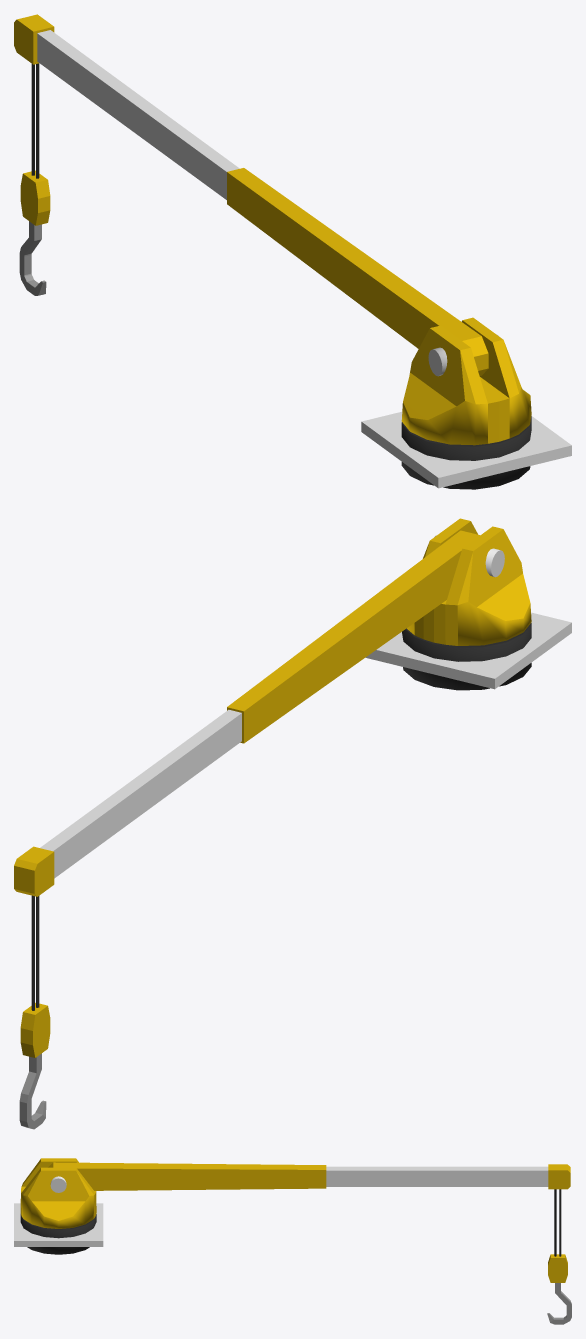
File: crane_tower.fbx
The picture shows the model from 3 angles, top to bottom: view 1: azimuth 30°, elevation 25°; view 2: azimuth 150°, elevation 25°; view 3: azimuth 270°, elevation 25°; orthographic projection. The views are drawn at different scales.
Visible parts, largest first — view 1: Arm, Tower, Beam, Base, Block; view 2: Arm, Beam, Tower, Base, Block; view 3: Arm, Beam, Tower, Base, Block.
Part boxes in pixels (x1,y1,x2,y2): Arm: [227, 168, 488, 375]; Tower: [401, 317, 531, 445]; Beam: [14, 14, 239, 199]; Base: [361, 411, 571, 489]; Block: [19, 63, 50, 295]; Arm: [227, 530, 479, 743]; Beam: [14, 709, 241, 896]; Tower: [407, 518, 531, 645]; Base: [365, 612, 571, 690]; Block: [19, 895, 50, 1129]; Arm: [48, 1162, 326, 1190]; Beam: [326, 1164, 570, 1189]; Tower: [20, 1158, 96, 1228]; Base: [14, 1203, 103, 1254]; Block: [547, 1189, 571, 1324].
Bounding box in the file's own units: 200 × 393 × 1250.
